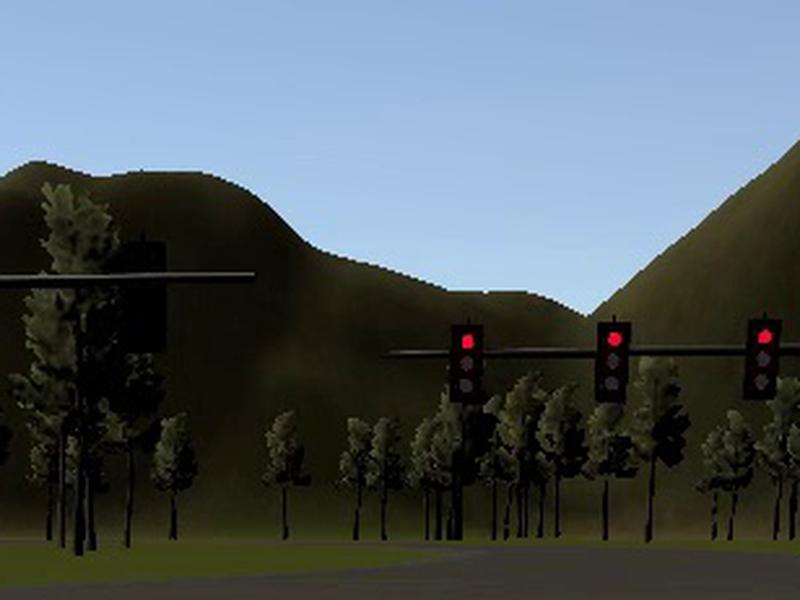Red: (742, 319, 783, 402), (594, 321, 629, 402), (451, 325, 484, 404)
